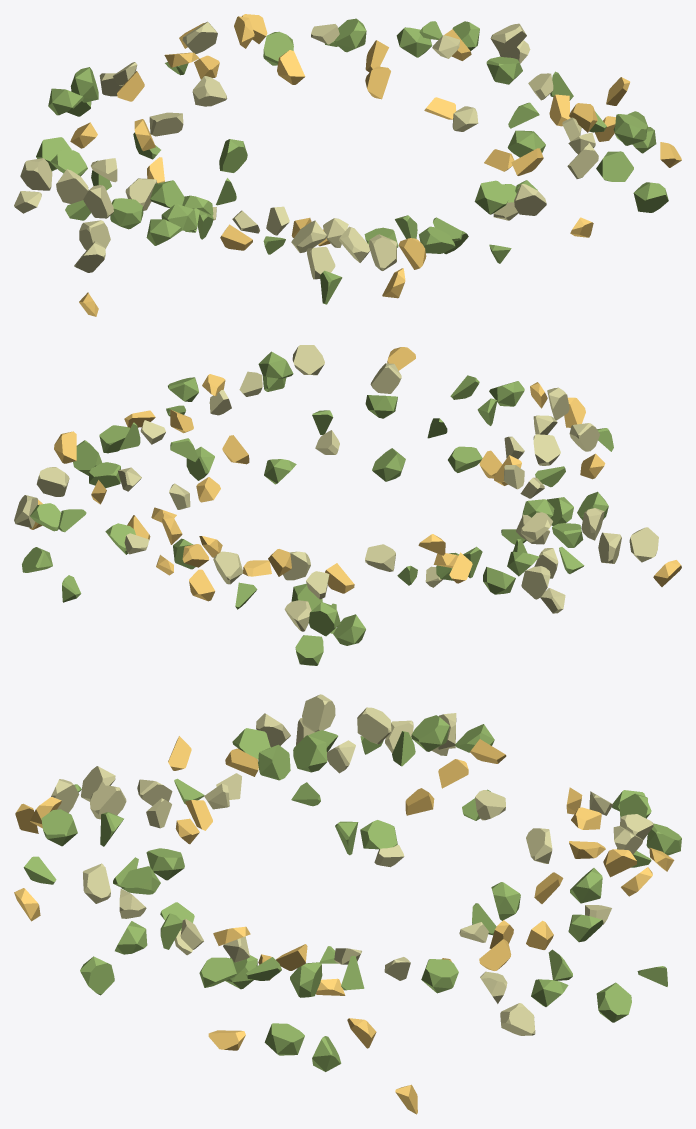
Rendered from pistachio.glb.
3 views of the same model, one above another, from view 1: azimuth 30°, elevation 25°; view 2: azimuth 150°, elevation 25°; view 3: azimuth 270°, elevation 25° (orthographic). The views are drawn at different scales.
Parts seen in each view (by area): view 1: pistachio; view 2: pistachio; view 3: pistachio.
Part boxes in pixels (x1=…): pistachio: x1=14, y1=14, x2=681, y2=316; pistachio: x1=14, y1=345, x2=681, y2=665; pistachio: x1=14, y1=694, x2=681, y2=1114.
Bounding box in the file's own units: 0.148 × 0.0308 × 0.13.
